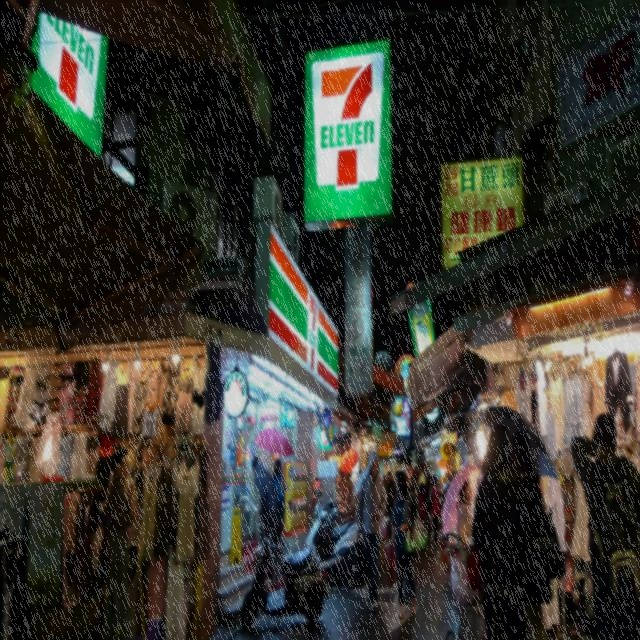pessoa: (568, 410, 640, 639), (466, 422, 528, 639), (511, 429, 552, 639), (100, 442, 141, 639), (354, 448, 388, 614), (388, 466, 423, 622), (250, 452, 280, 588), (269, 456, 289, 586), (454, 477, 474, 538), (383, 469, 398, 540), (430, 474, 440, 552), (424, 467, 434, 539), (334, 483, 350, 527), (330, 472, 341, 528), (402, 456, 416, 496), (442, 472, 452, 506), (356, 468, 362, 477), (382, 471, 387, 481)
